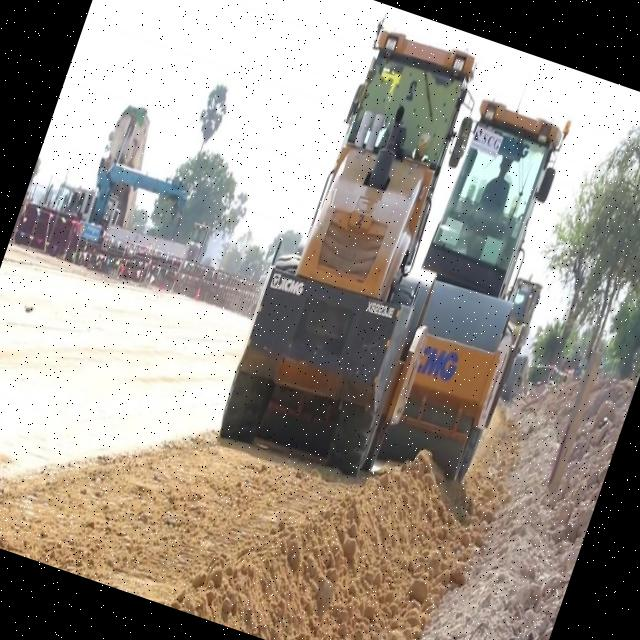Roller: (237, 5, 510, 418), (383, 90, 602, 437)
